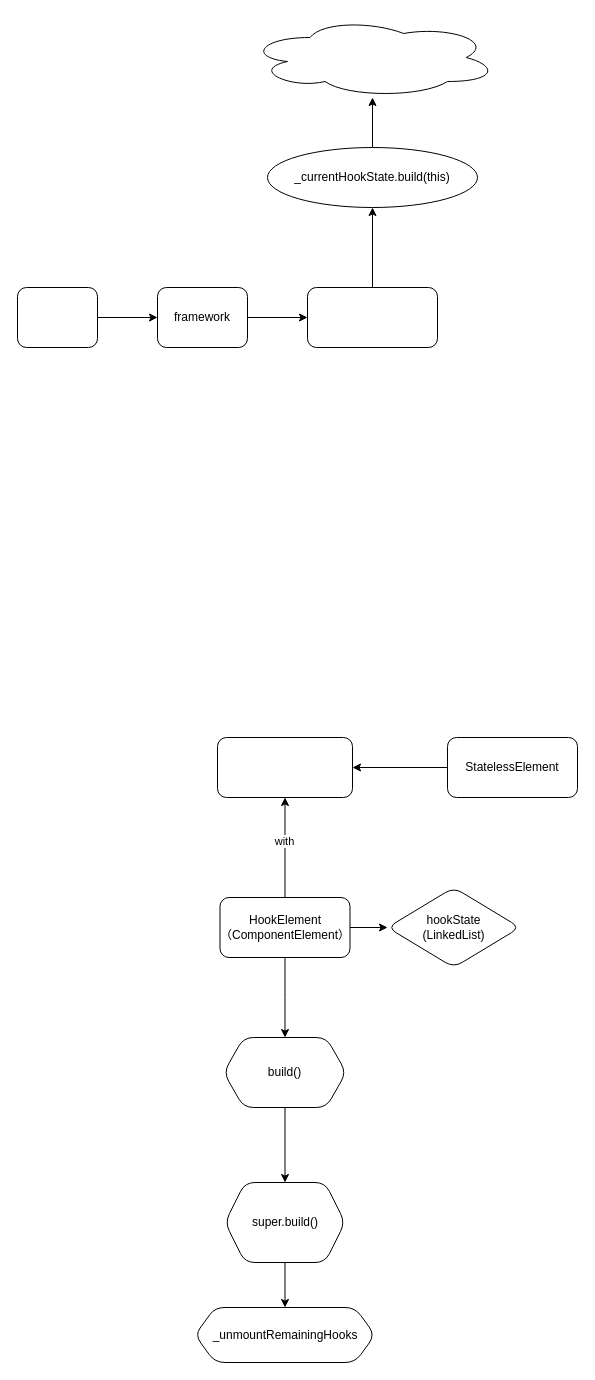
Image size: 595x1380. Some labels were removed from this diagram. The centre of each missing label's shape, as x and y in pixels:
"_currentHookState: LinkedList" belongs at point 372,57.
"flutter_hooks" belongs at point 57,317.
"HookElement.use" belongs at point 372,317.
"HookWidget" belongs at point 284,767.
